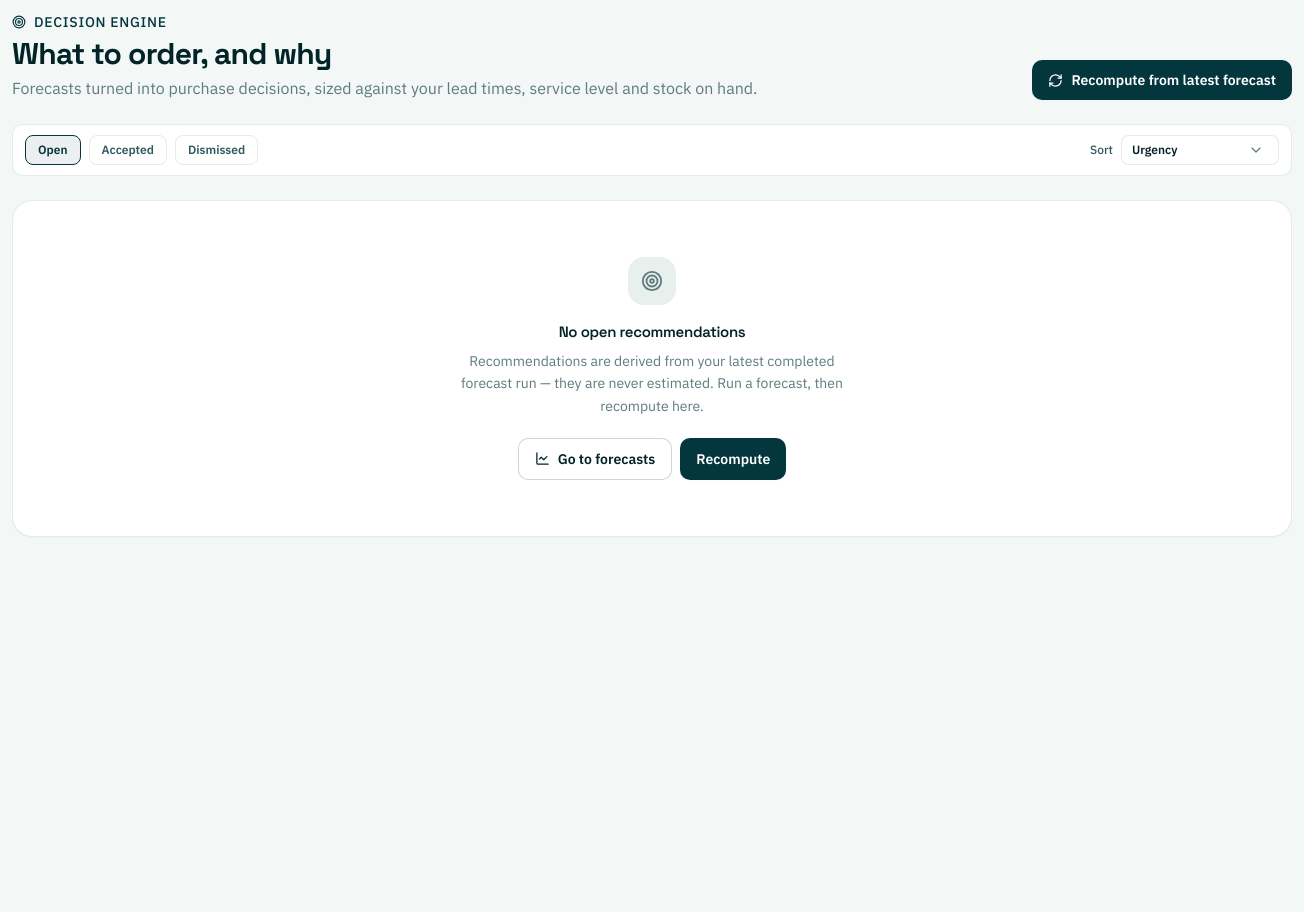
Test: shows network setup notes after refresh
Click the button "Recompute from latest forecast" at (1162, 80), box [1032,60,1292,100]
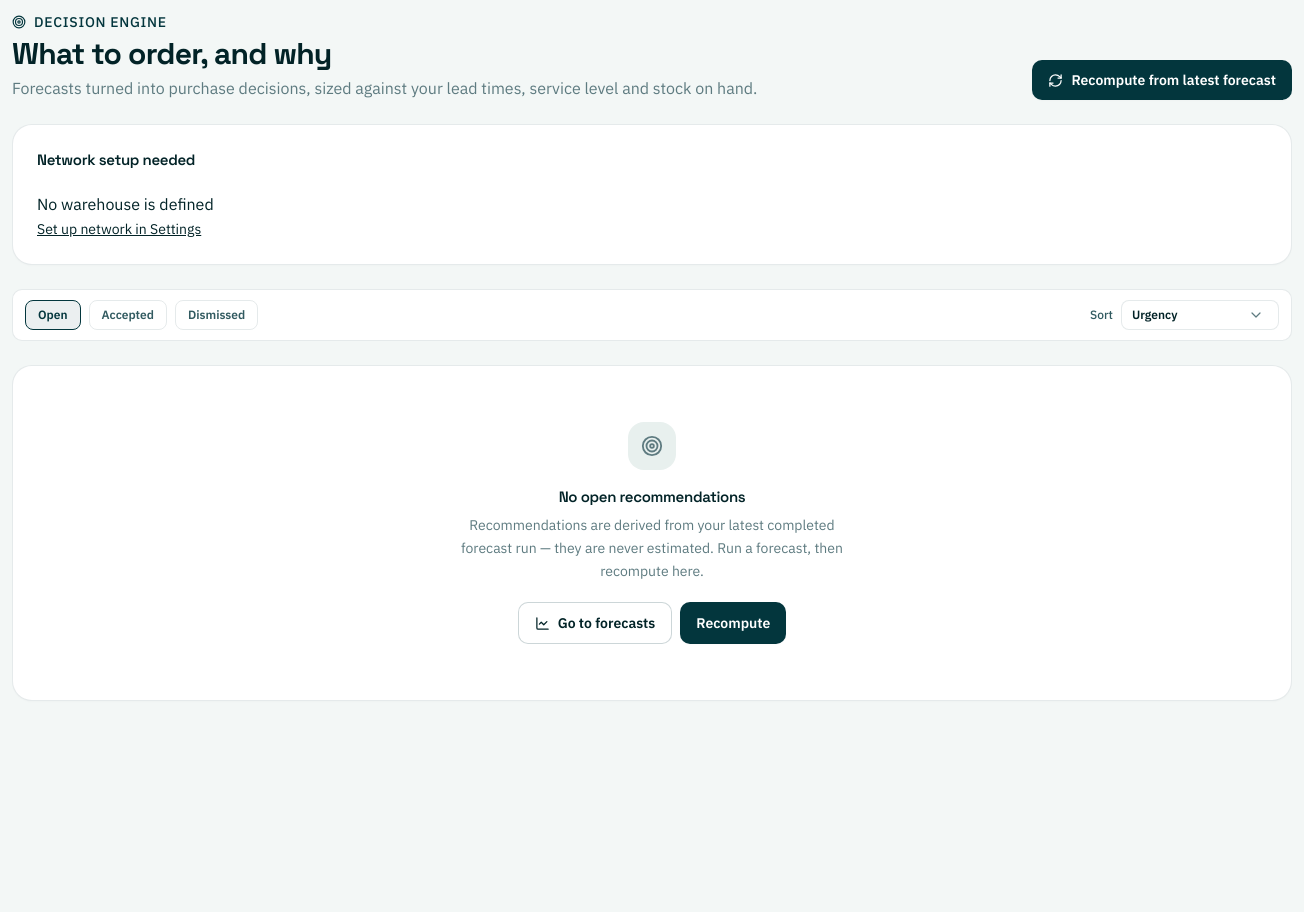
Check: the heading "Network setup needed" is shown, box [37,149,195,172]
